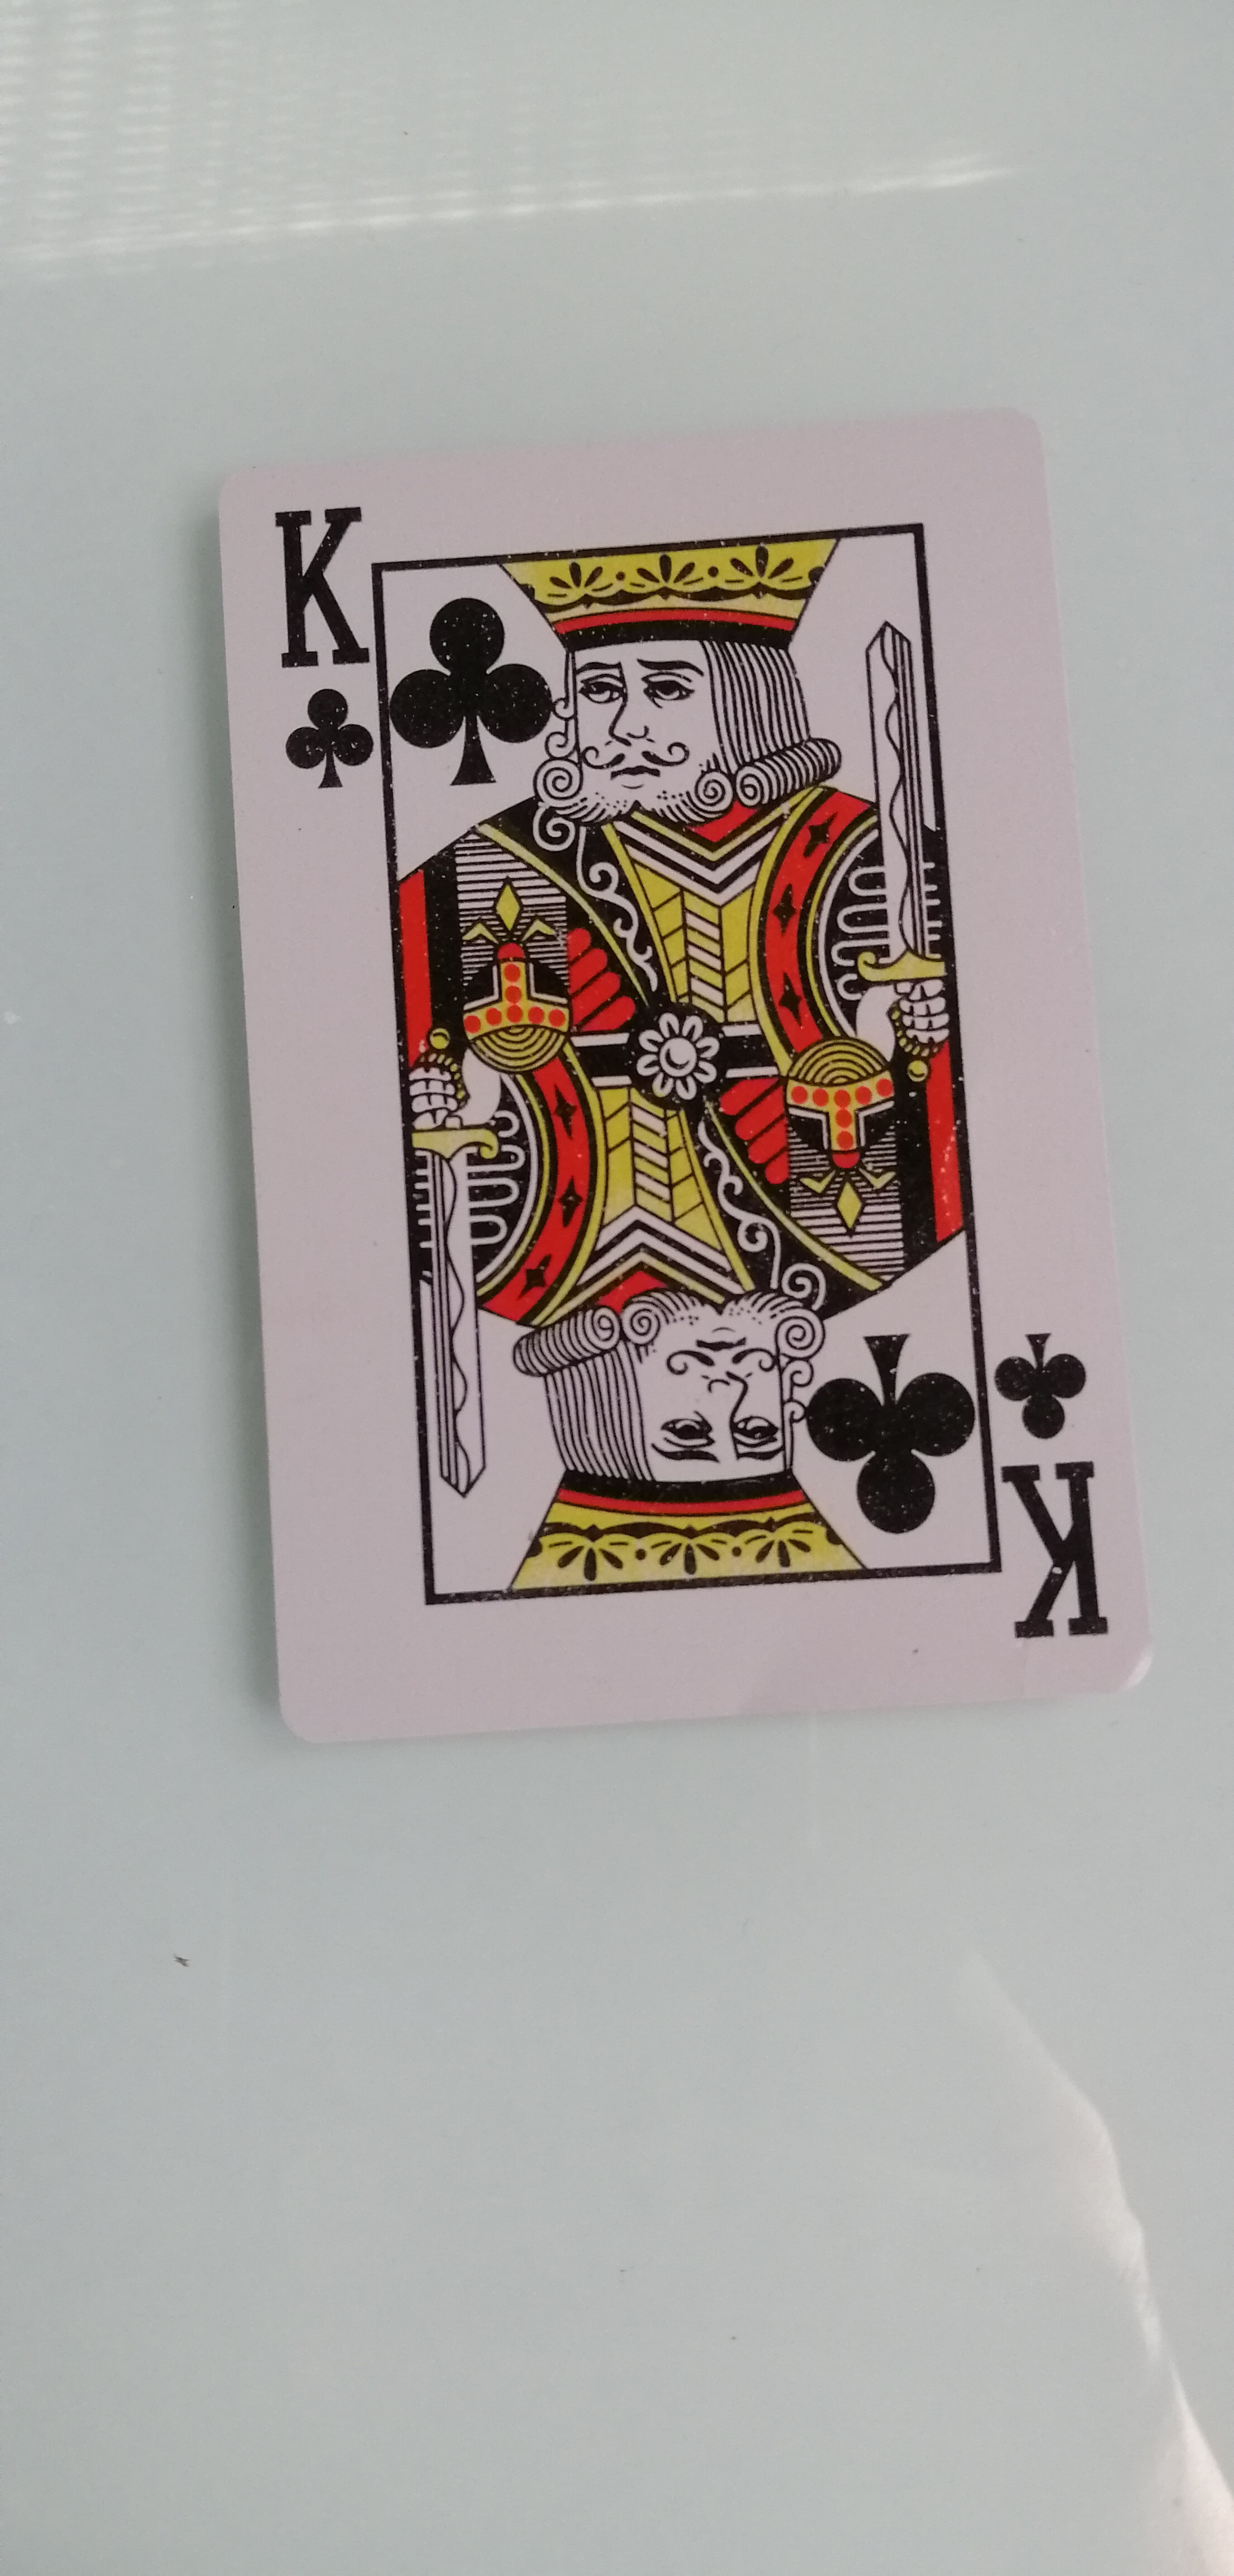king: (189, 383, 1199, 1763)
